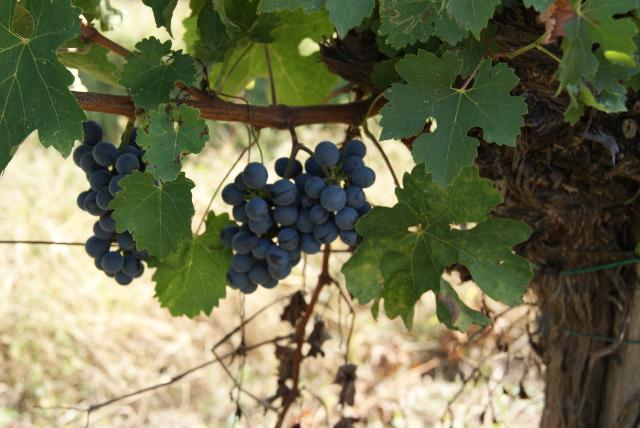grapes: (220, 140, 375, 292), (72, 120, 149, 285)
